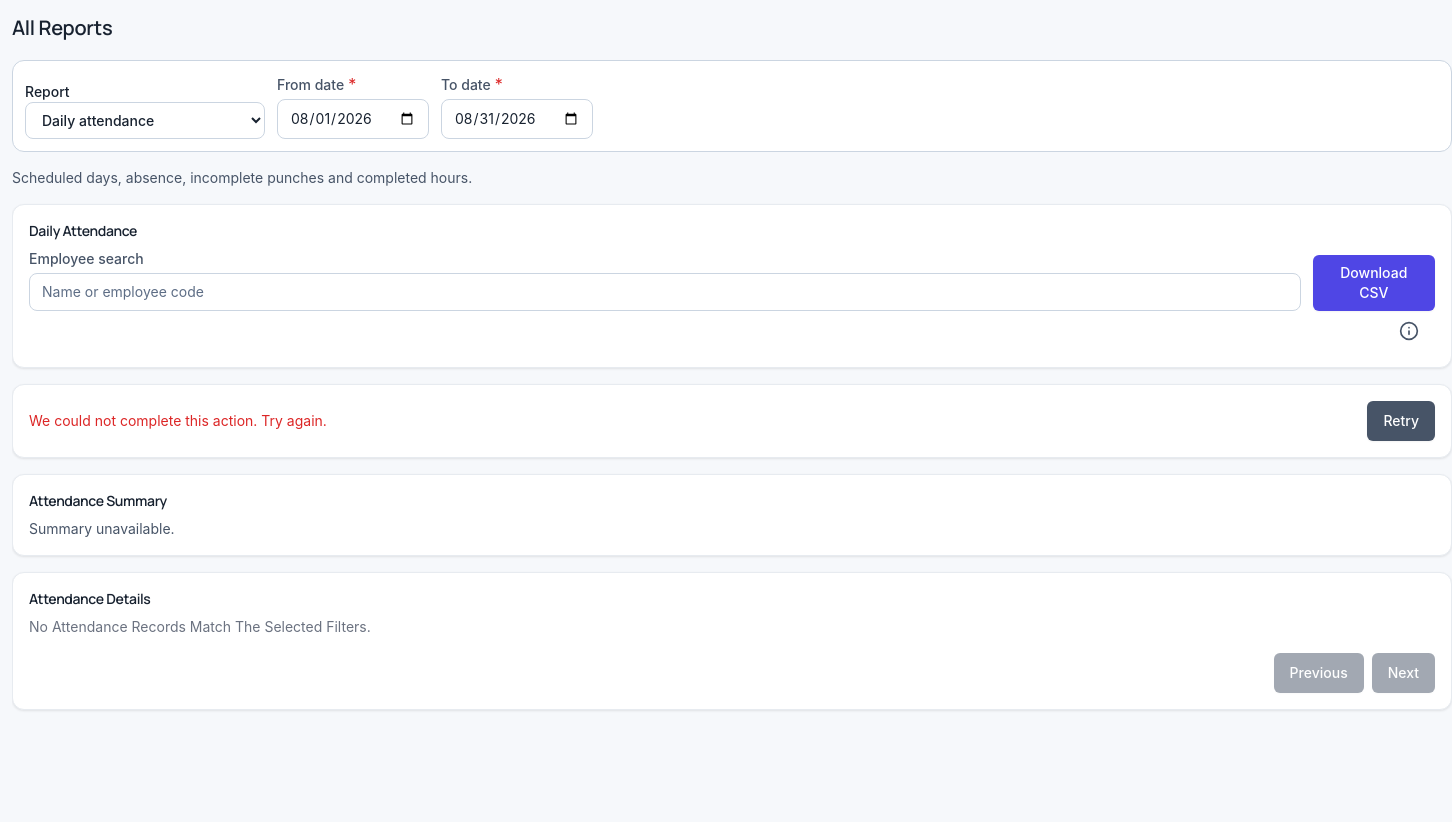
AdminReportsPage report catalogue › shows an inverted-range error and does not request data for that range
Type "2026-09-10" into the date field labelled "From date" at (353, 119), box x1=277 y1=99 x2=429 y2=139
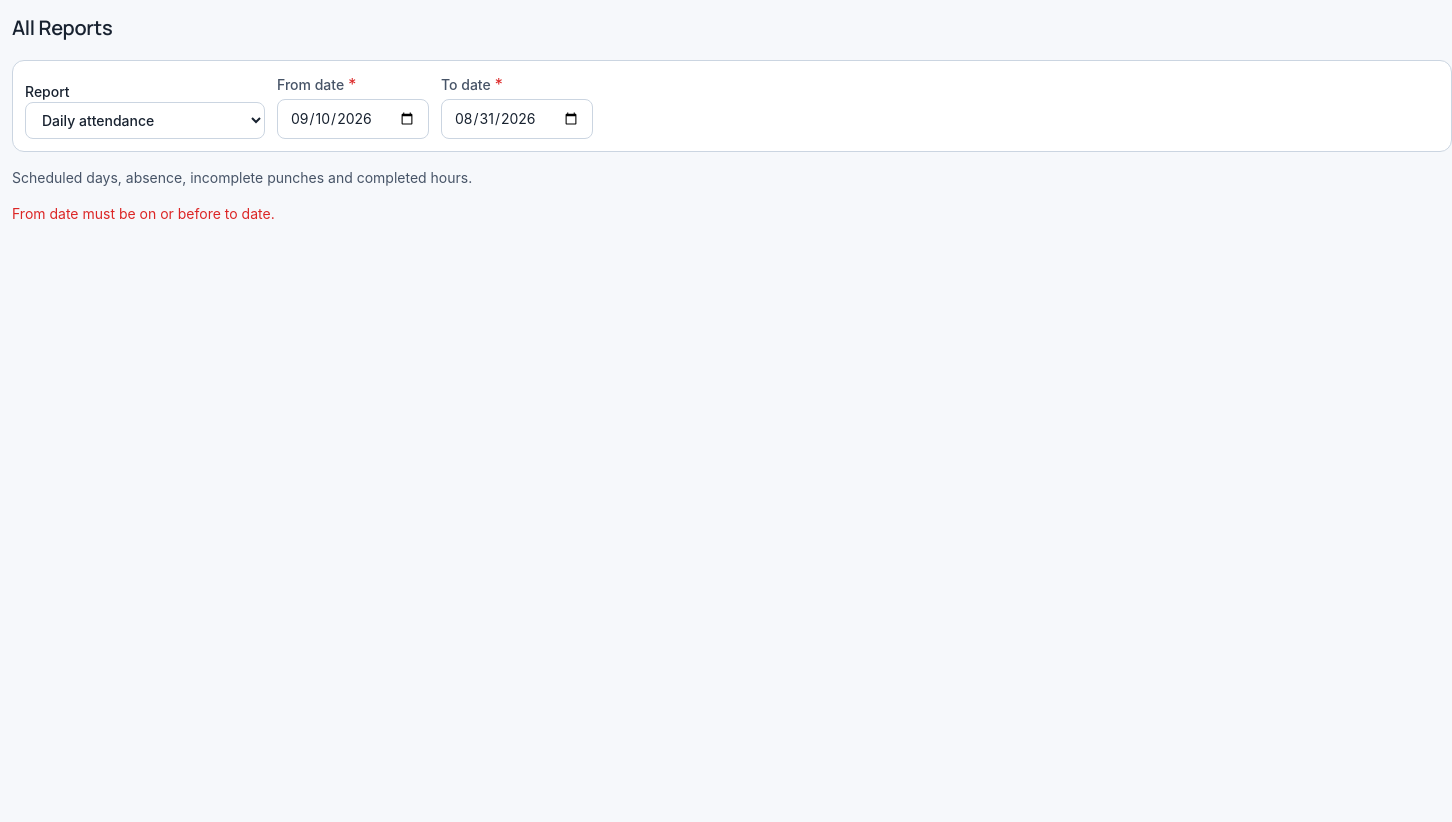
Check: the message reads "From date must be on or before to date.", box x1=12 y1=205 x2=275 y2=222
